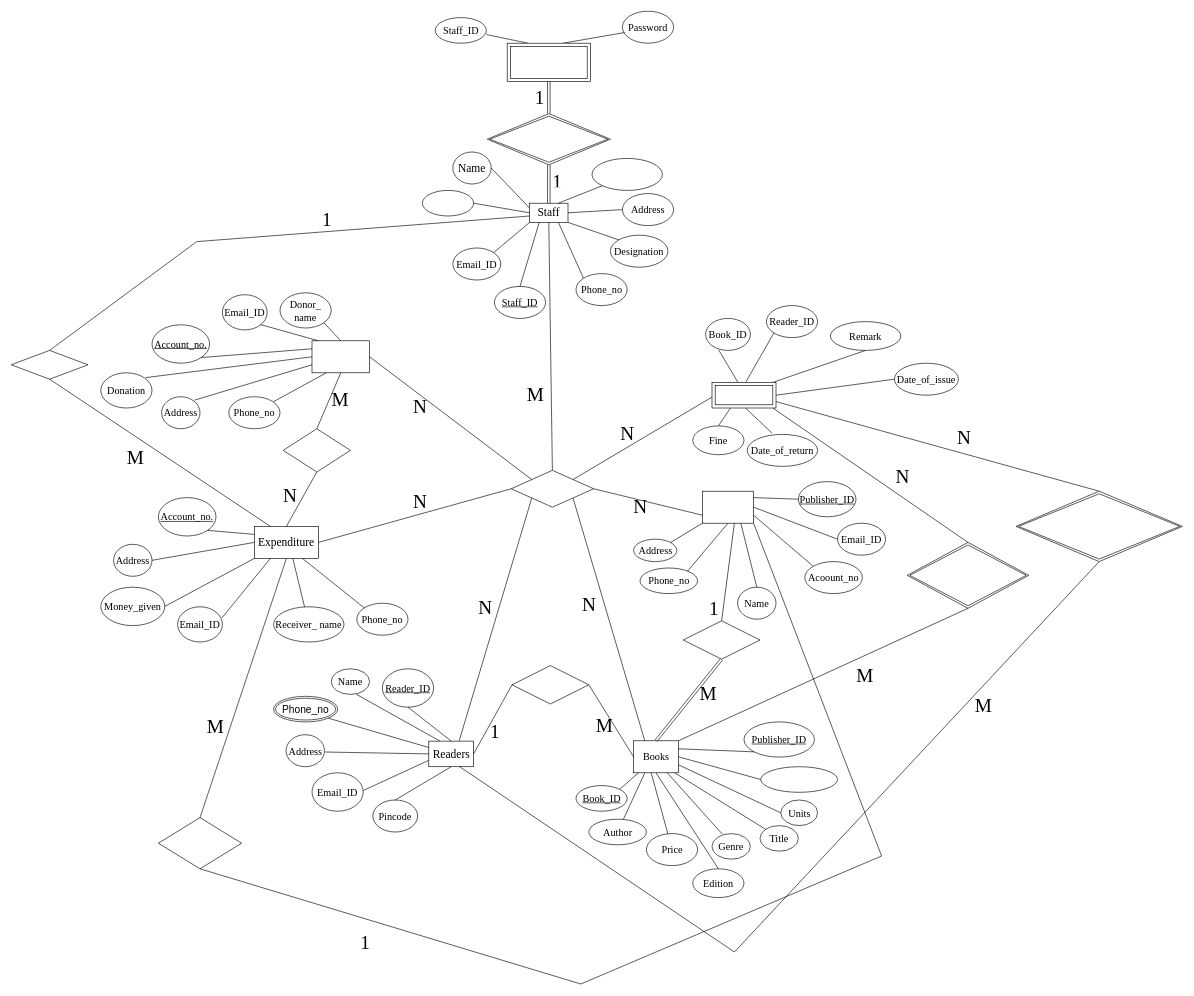
This 1194x996 diagram has some shape labels left out. The shapes that lost their labels are listed below. From the top down, each one's centre as x and y in pixels, then its label:
At pixel 548 62: "Authentication system".
At pixel 548 139: "Validates through login".
At pixel 626 174: "Account_no".
At pixel 448 203: "Salary".
At pixel 49 364: "Pays".
At pixel 340 356: "Monetary donations".
At pixel 743 395: "Reports".
At pixel 316 450: "Helps in".
At pixel 552 488: "Manages".
At pixel 728 507: "Publishers".
At pixel 1098 526: "Takes note of the activity of".
At pixel 968 575: "For taking care of".
At pixel 721 639: "Publish".
At pixel 550 684: "Borrow".
At pixel 799 779: "Year_published".
At pixel 200 843: "For buyimg".
